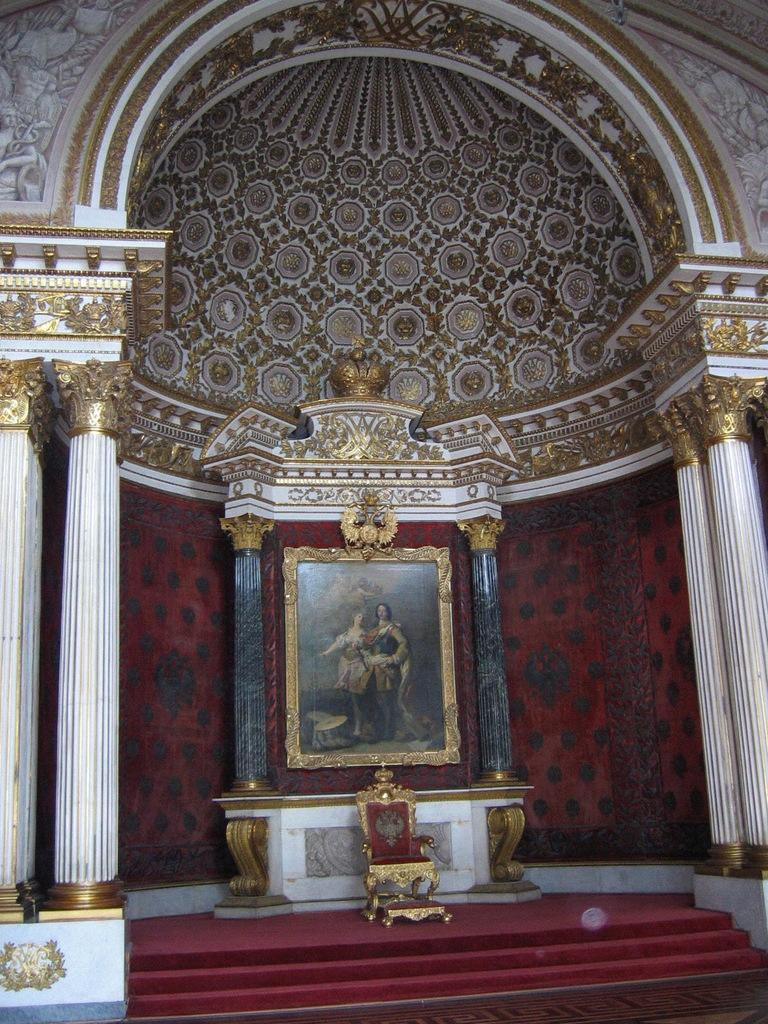Chair: (358, 762, 440, 916)
